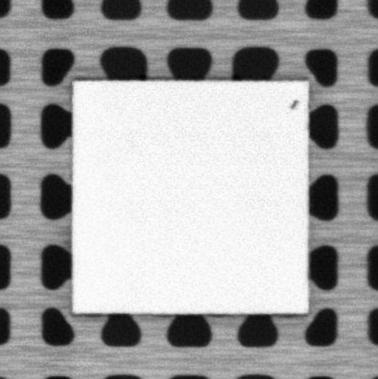DIE_INK: (289, 97, 301, 111)
